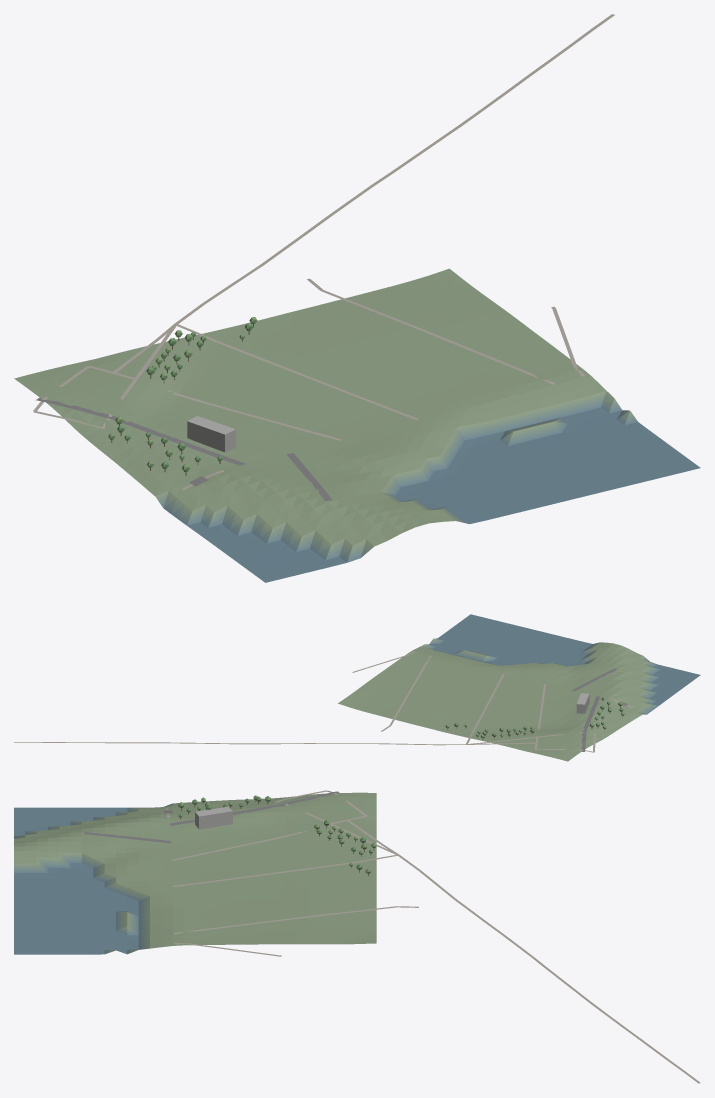
Rendered from tile_5_-3.glb.
3 views of the same model, one above another, from view 1: azimuth 30°, elevation 25°; view 2: azimuth 150°, elevation 25°; view 3: azimuth 270°, elevation 25° (orthographic). The views are drawn at different scales.
Visible parts, largest first — view 1: terrain, paths, props, roads, buildings; view 2: terrain, paths, props, roads; view 3: terrain, paths, props, roads, buildings.
Boxes of the visible parts, x1,y1,x2,y2 form: terrain: [14, 268, 700, 582]; paths: [33, 14, 614, 490]; props: [108, 317, 257, 475]; roads: [36, 397, 332, 501]; buildings: [187, 416, 235, 452]; terrain: [338, 614, 700, 761]; paths: [14, 651, 633, 752]; props: [445, 697, 624, 739]; roads: [571, 668, 627, 751]; terrain: [14, 792, 376, 954]; paths: [165, 790, 700, 1083]; props: [178, 795, 376, 876]; roads: [83, 791, 339, 843]; buildings: [195, 806, 232, 829].
Bounding box in the file's own units: 494 × 20.25 × 485.
